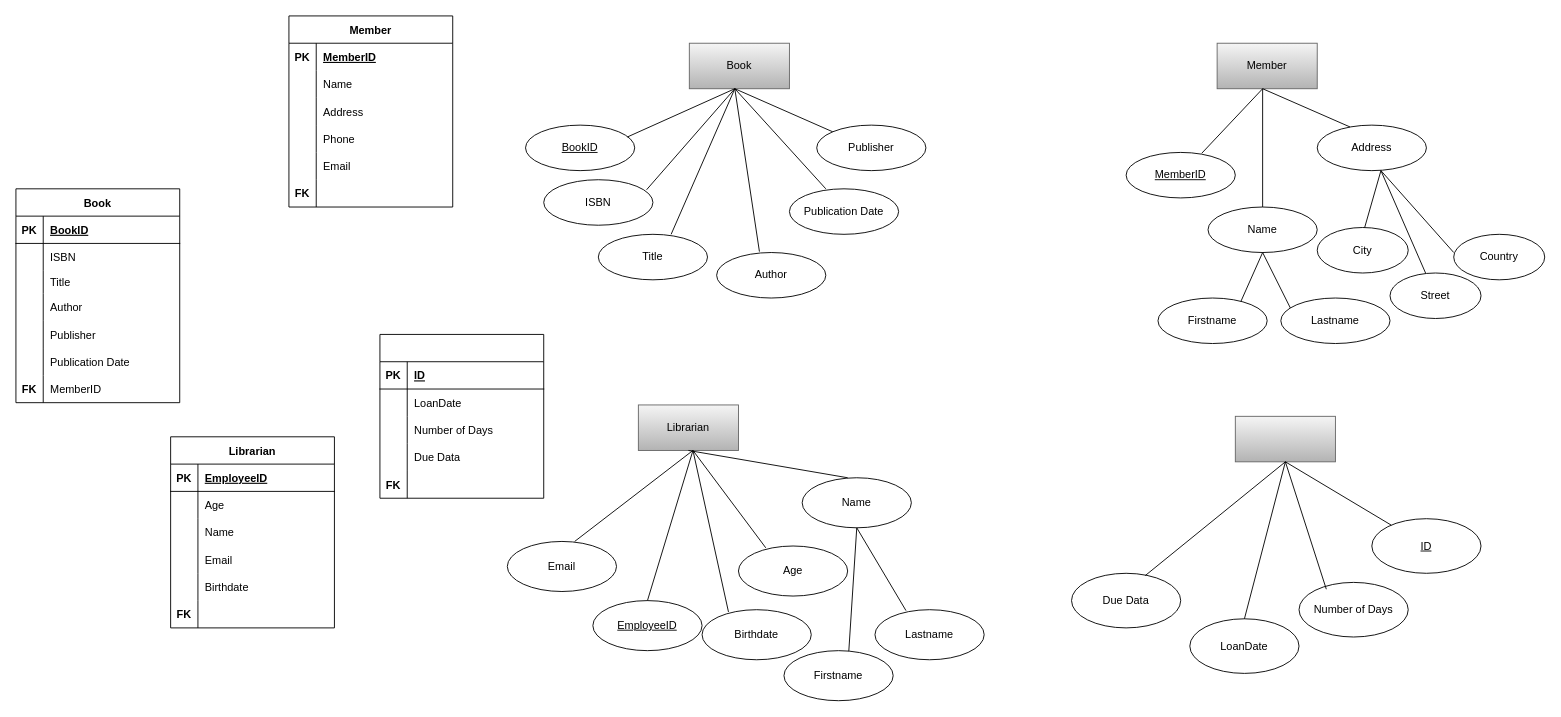
The diagram is 1561 pixels wide and 717 high, and some of its shapes have lost their labels. Each missing label, with the box of its shape:
Loan: (1234, 415, 1335, 462)
Table: (379, 334, 544, 498)
